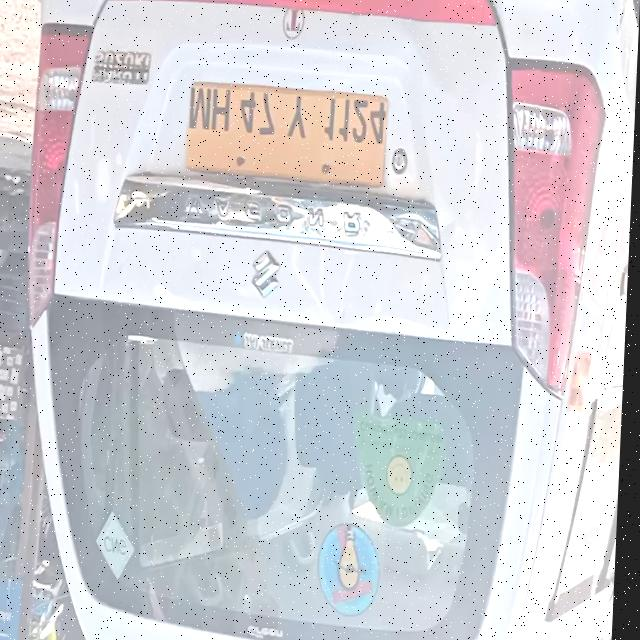plate: (185, 83, 397, 185)
